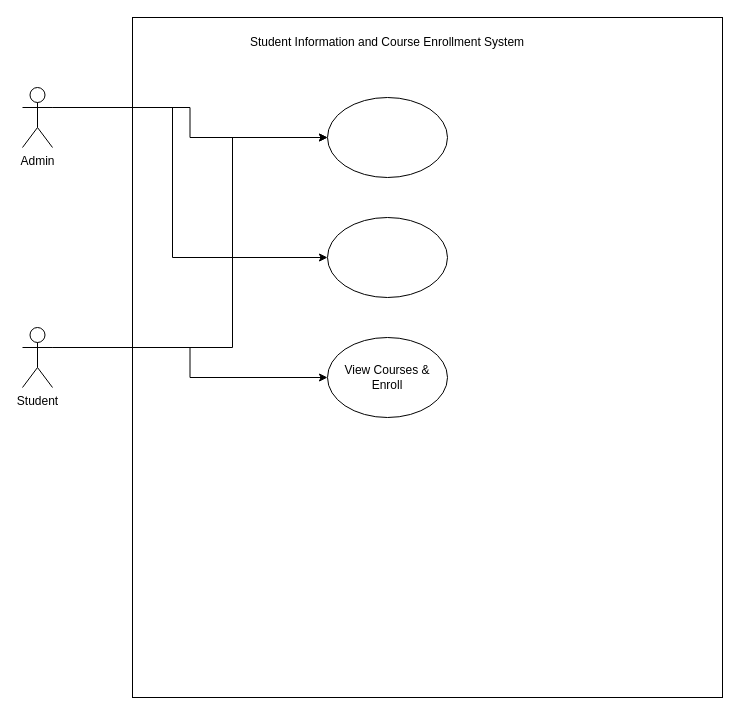
This 740x715 diagram has some shape labels left out. The shapes that lost their labels are listed below. From the top down, each one's centre as x and y in pixels, then its label:
At pixel 387 137: "Register / Login".
At pixel 387 257: "Manage Student Records (CRUD)".
